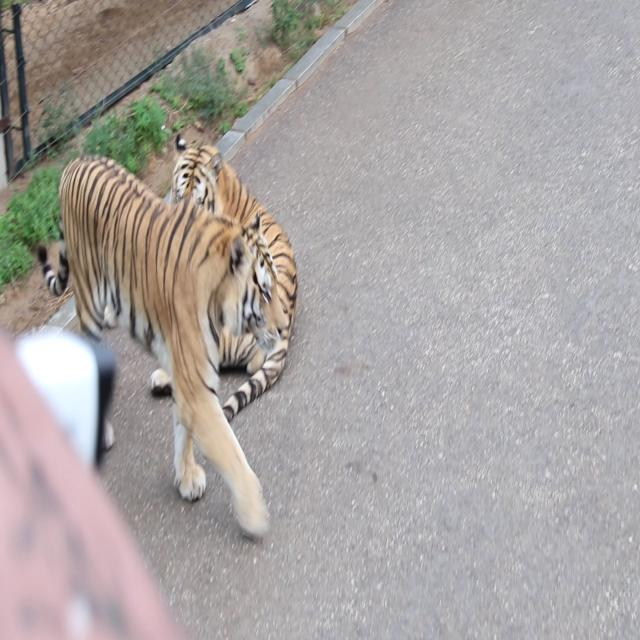Tiger: (35, 128, 292, 556), (163, 129, 295, 417)
